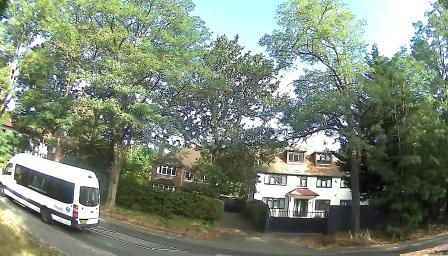Cars: (4, 151, 98, 231)
